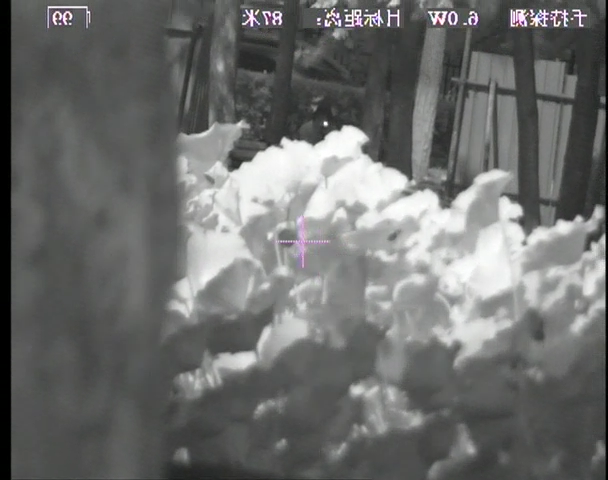my: (321, 119, 330, 128)
